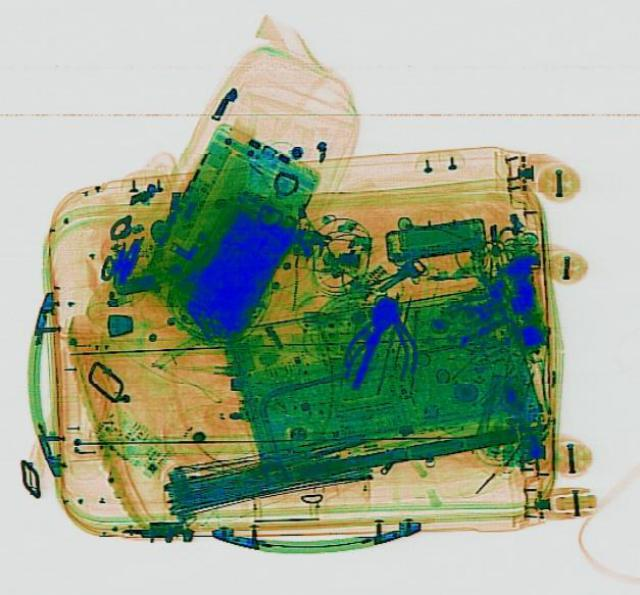Pliers: (340, 296, 420, 383), (339, 298, 421, 380)
